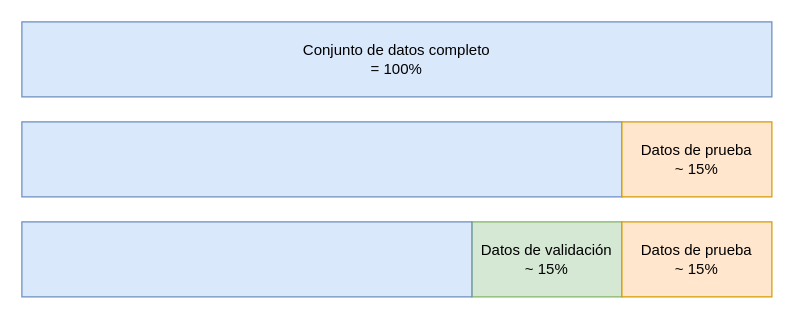
This 794x319 diagram has some shape labels left out. The shapes that lost their labels are listed below. From the top down, each one's centre as x and y in pixels, then its label:
pixel 321 159: Datos disponibles para entrenamiento ~ 85%
pixel 246 259: Datos de entenamiento ~ 15%
